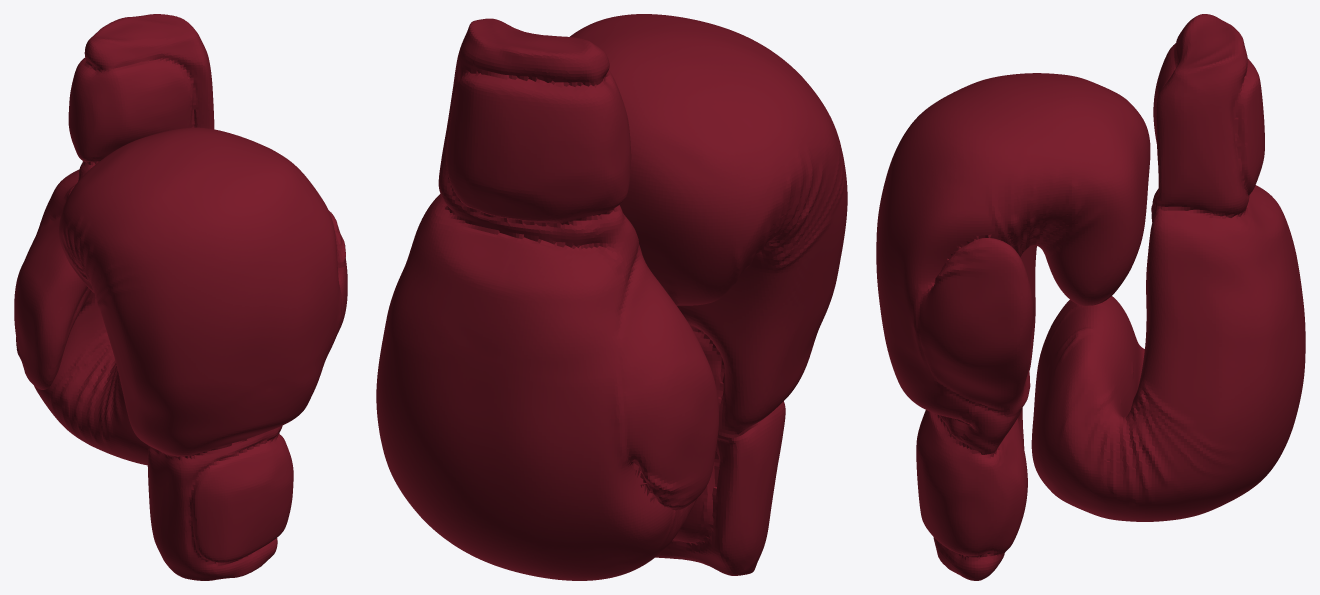
Rendered from rekawice-ko.glb.
The picture shows the model from 3 angles, left to right: view 1: azimuth 30°, elevation 25°; view 2: azimuth 150°, elevation 25°; view 3: azimuth 270°, elevation 25°; orthographic projection. The views are drawn at different scales.
Visible parts, largest first — view 1: Kula, Kula.001; view 2: Kula.001, Kula; view 3: Kula, Kula.001.
Boxes of the visible parts, box(x1,y1,x2,y2) form: Kula: box(58, 127, 347, 580); Kula.001: box(14, 14, 214, 465); Kula.001: box(376, 18, 718, 580); Kula: box(570, 14, 847, 575); Kula: box(876, 73, 1150, 580); Kula.001: box(1031, 14, 1305, 521).
Bounding box in the file's own units: 2.01 × 3.56 × 2.61.
